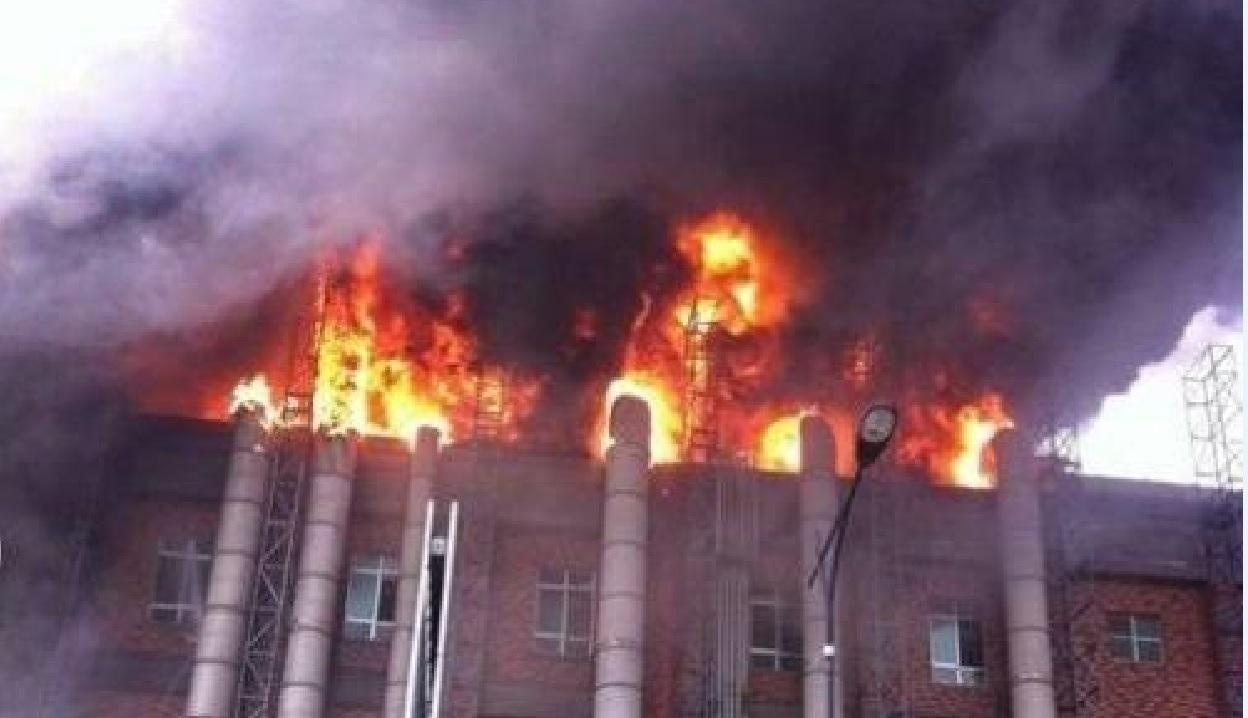fire: (595, 219, 1006, 479), (214, 246, 530, 445)
